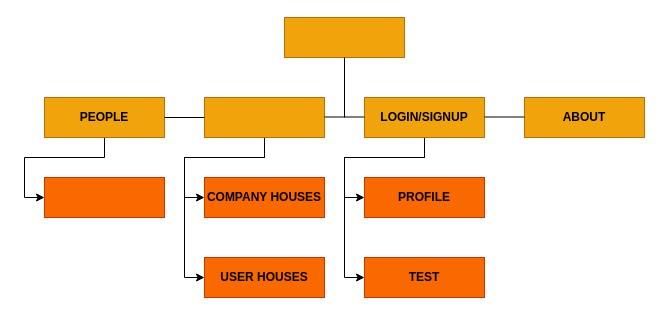
Some shapes in this 662 by 315 pixel diagram are drawn without their labels. Each missing label, with the centre of its shape:
"HOME" belongs at point (344, 37).
"HOUSES" belongs at point (264, 117).
"MATCHES" belongs at point (104, 197).
